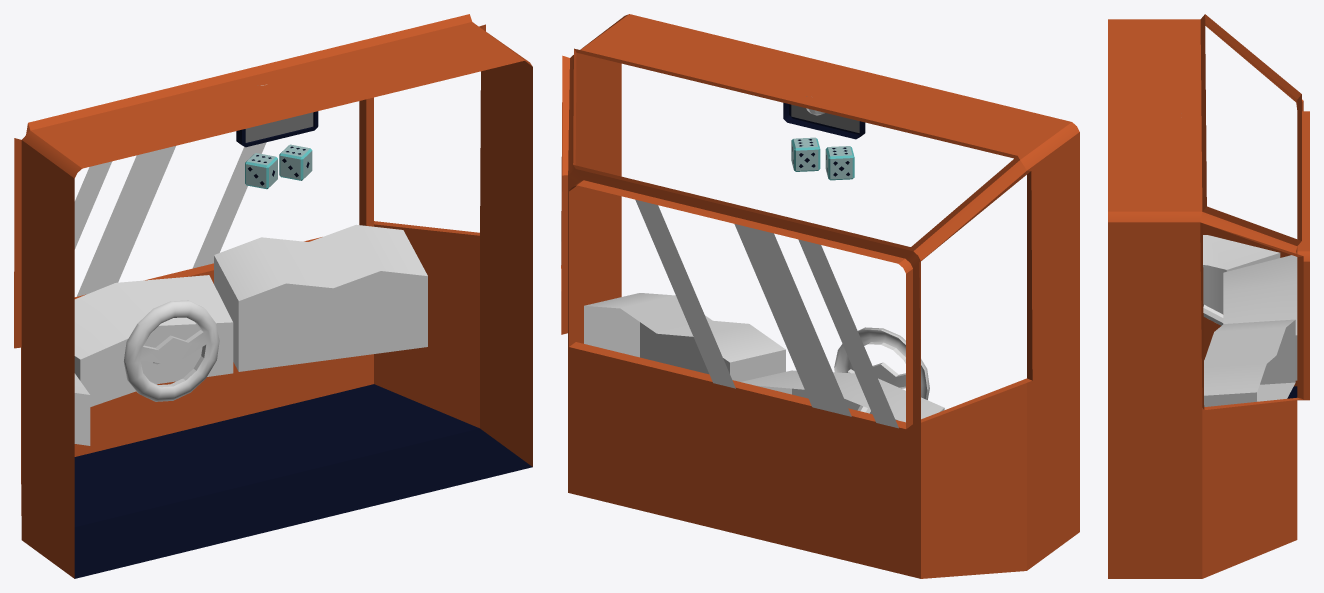
File: dashboard_color.back.fbx
The picture shows the model from 3 angles, left to right: view 1: azimuth 30°, elevation 25°; view 2: azimuth 150°, elevation 25°; view 3: azimuth 270°, elevation 25°; orthographic projection. The views are drawn at different scales.
Parts seen in each view (by area): view 1: pCube1, polySurface1, polySurface2, pCylinder1, pPlane2, pPlane1, pCube3, pPlane3, pCube5, polySurface3, pCube4; view 2: pCube1, polySurface1, pPlane2, pPlane3, pPlane1, polySurface2, pCylinder1, pCube3, pCube4, pCube5; view 3: pCube1, polySurface1, polySurface2, polySurface3.
Boxes of the visible parts, left/top/right/bottom form: pCube1: left=14, top=14, right=532, bottom=578; polySurface1: left=214, top=224, right=427, bottom=371; polySurface2: left=74, top=275, right=233, bottom=406; pCylinder1: left=124, top=300, right=219, bottom=401; pPlane2: left=76, top=146, right=175, bottom=296; pPlane1: left=192, top=142, right=266, bottom=268; pCube3: left=236, top=111, right=318, bottom=147; pPlane3: left=74, top=161, right=112, bottom=249; pCube5: left=279, top=144, right=312, bottom=180; polySurface3: left=74, top=373, right=90, bottom=445; pCube4: left=245, top=153, right=277, bottom=189; pCube1: left=561, top=14, right=1079, bottom=578; polySurface1: left=584, top=293, right=785, bottom=381; pPlane2: left=734, top=224, right=851, bottom=416; pPlane3: left=798, top=239, right=898, bottom=428; pPlane1: left=635, top=199, right=735, bottom=388; polySurface2: left=741, top=370, right=944, bottom=422; pCylinder1: left=834, top=327, right=929, bottom=399; pCube3: left=783, top=102, right=865, bottom=139; pCube4: left=825, top=146, right=854, bottom=180; pCube5: left=791, top=137, right=820, bottom=171; pCube1: left=1108, top=14, right=1309, bottom=578; polySurface1: left=1204, top=319, right=1295, bottom=406; polySurface2: left=1223, top=255, right=1297, bottom=380; polySurface3: left=1203, top=235, right=1280, bottom=314.
Size of the model in its own units: 20.58 by 17.29 by 8.56.
